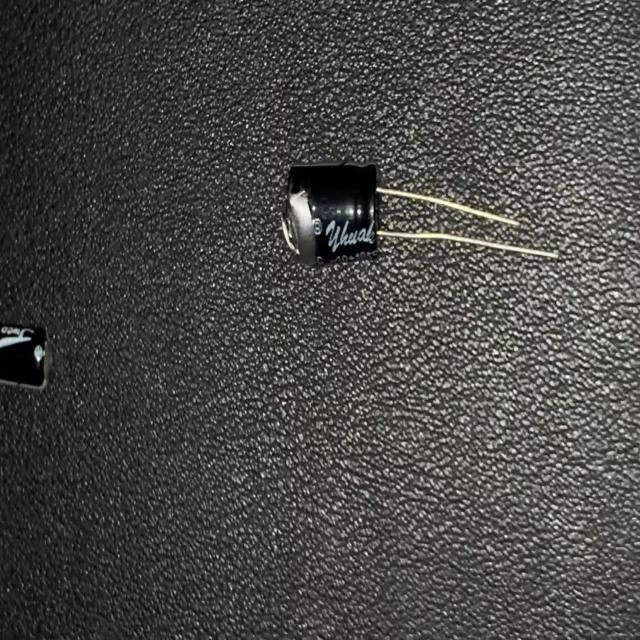capacitor: (281, 157, 562, 275)
cracked: (283, 192, 319, 266)
